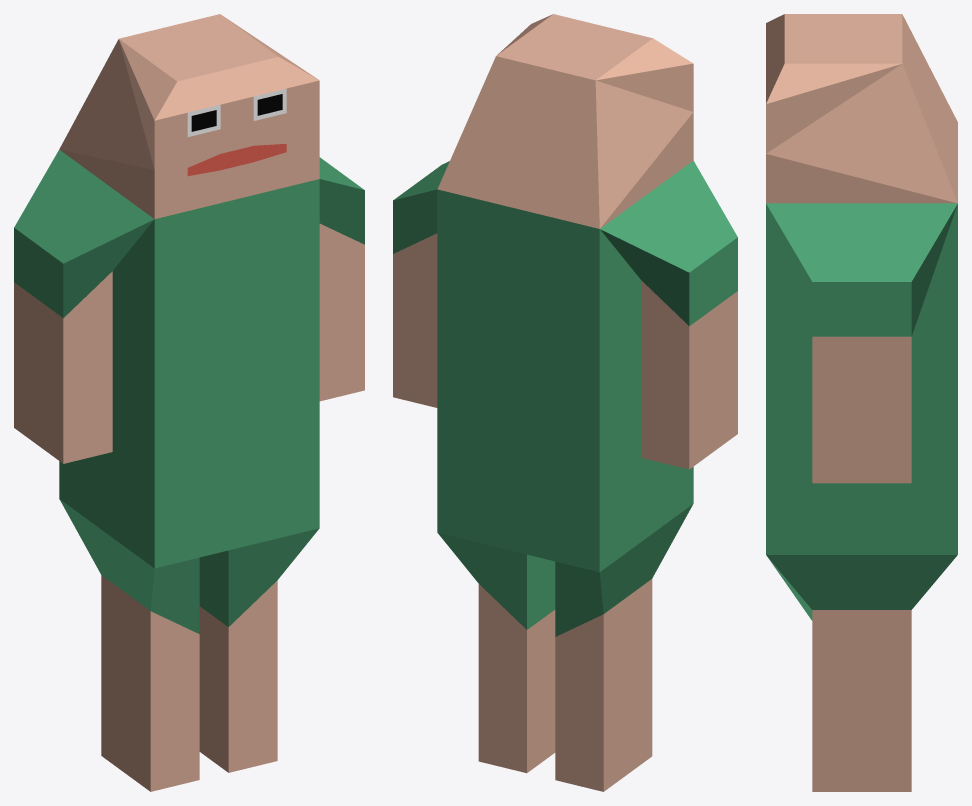
File: Craig.glb
The picture shows the model from 3 angles, left to right: view 1: azimuth 30°, elevation 25°; view 2: azimuth 150°, elevation 25°; view 3: azimuth 270°, elevation 25°; orthographic projection. The views are drawn at different scales.
Parts seen in each view (by area): view 1: Cube; view 2: Cube; view 3: Cube.
Part boxes in pixels (x1=…): Cube: x1=14, y1=14, x2=364, y2=791; Cube: x1=393, y1=14, x2=737, y2=791; Cube: x1=766, y1=14, x2=957, y2=791.
Size of the model in its own units: 3.65 by 8.3 by 2.
